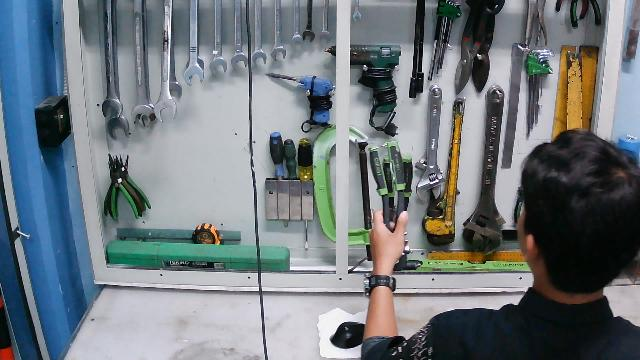tang_rivet: (368, 141, 409, 243)
